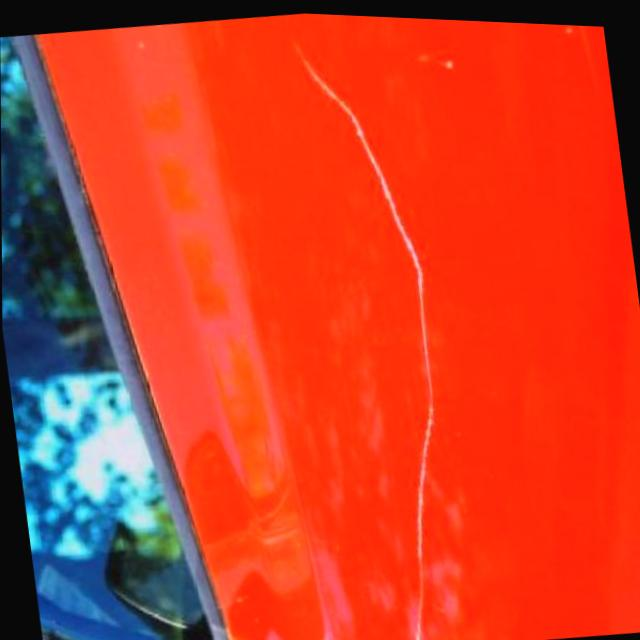Scratch: (296, 49, 436, 640)
